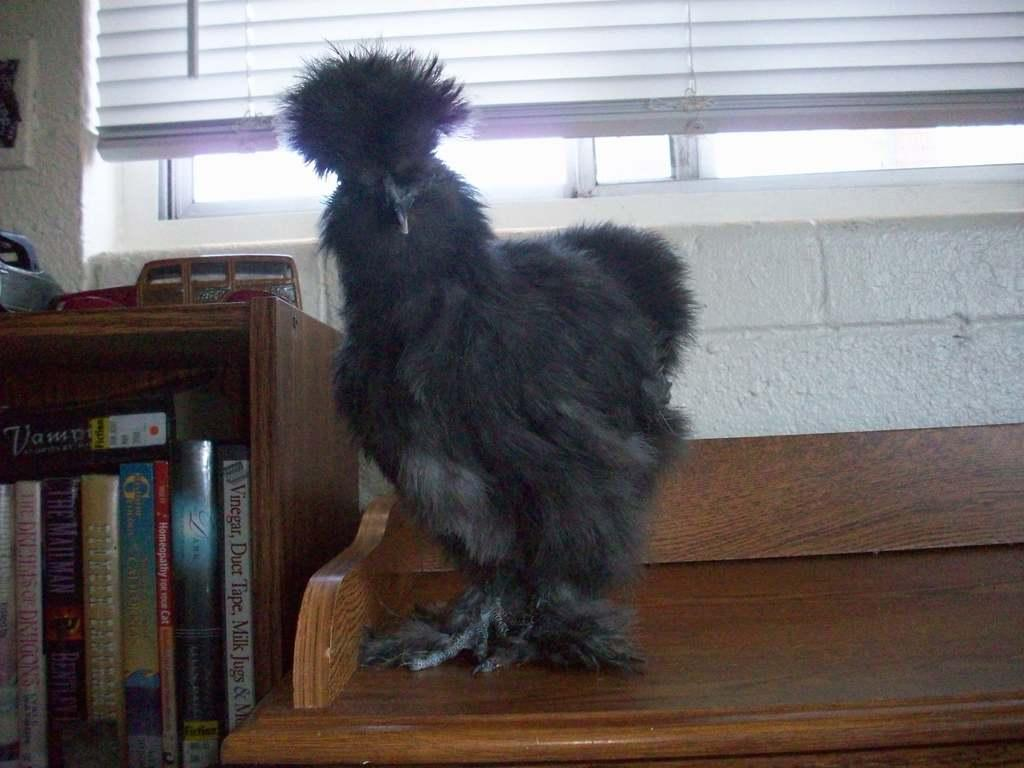Book: (27, 254, 275, 745)
